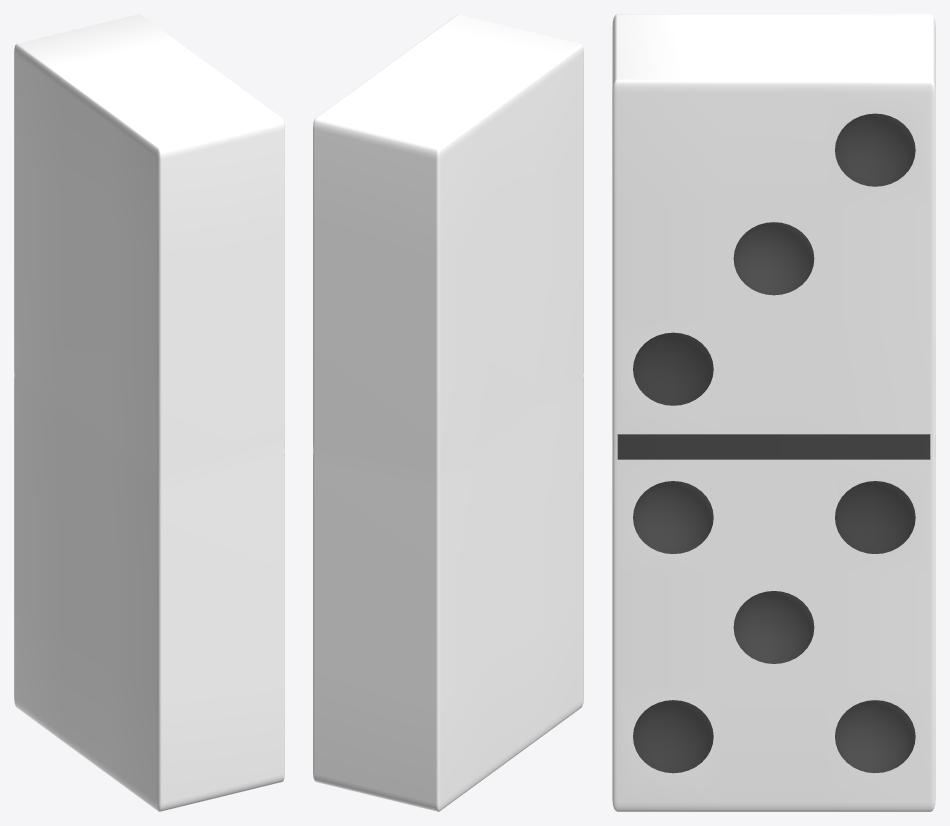
File: domino.glb
The picture shows the model from 3 angles, left to right: view 1: azimuth 30°, elevation 25°; view 2: azimuth 150°, elevation 25°; view 3: azimuth 270°, elevation 25°; orthographic projection. The views are drawn at different scales.
Parts seen in each view (by area): view 1: SM_Domino_35; view 2: SM_Domino_35; view 3: SM_Domino_35.
Part boxes in pixels (x1,y1,x2,y2): SM_Domino_35: (14,14,284,811); SM_Domino_35: (313,14,583,811); SM_Domino_35: (612,14,935,811).
Size of the model in its own units: 0.0289 by 0.1444 by 0.0578.
1 material, 1 textured.
